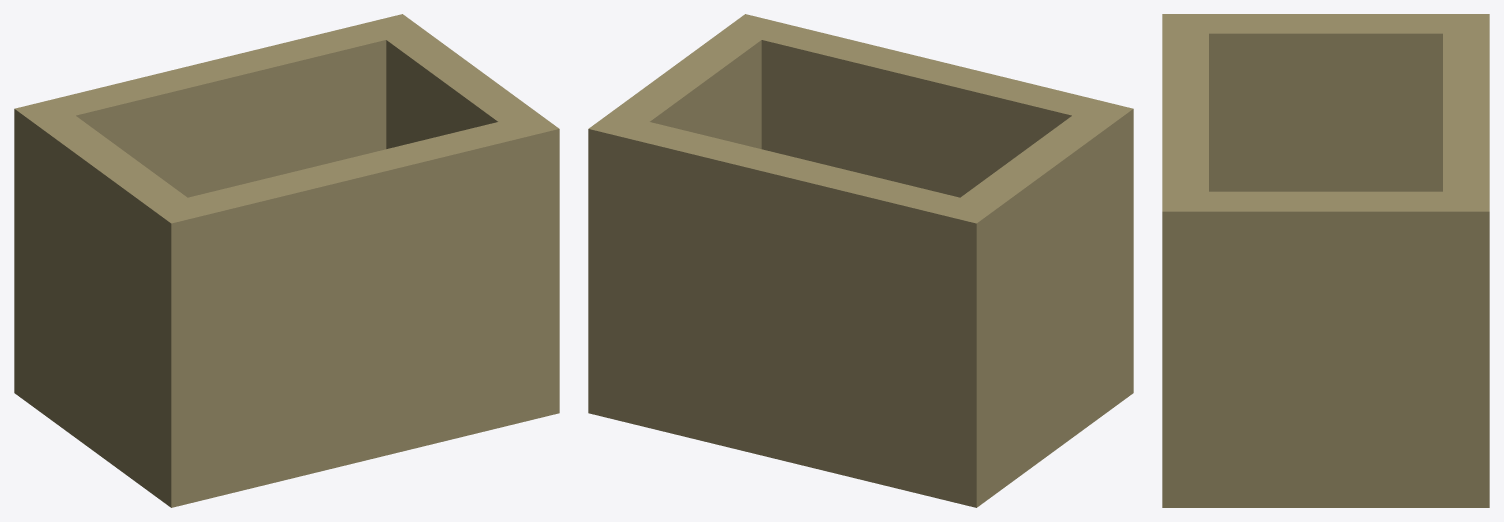
Rendered from BreakBOX.fbx.
3 renders of one model, left to right at view 1: azimuth 30°, elevation 25°; view 2: azimuth 150°, elevation 25°; view 3: azimuth 270°, elevation 25°, orthographic. The views are drawn at different scales.
Parts seen in each view (by area): view 1: Group2, Group11, Group8, Group3, Group6, Group7, Group4, Group5, Group10, Group9; view 2: Group3, Group8, Group10, Group9, Group2, Group11, Group7, Group6, Group4, Group5; view 3: Group3, Group11, Group6, Group5, Group7, Group2, Group8, Group4, Group10.
Boxes of the visible parts, bbox=[...] form: Group2: bbox=[149, 158, 412, 507]; Group11: bbox=[351, 112, 559, 455]; Group8: bbox=[126, 33, 347, 179]; Group3: bbox=[325, 14, 536, 158]; Group6: bbox=[14, 99, 135, 359]; Group7: bbox=[14, 212, 81, 427]; Group4: bbox=[62, 208, 148, 491]; Group5: bbox=[97, 160, 187, 424]; Group10: bbox=[53, 81, 203, 191]; Group9: bbox=[180, 134, 260, 197]; Group3: bbox=[588, 30, 761, 431]; Group8: bbox=[666, 131, 886, 438]; Group10: bbox=[810, 180, 959, 498]; Group9: bbox=[695, 233, 864, 476]; Group2: bbox=[878, 59, 1133, 409]; Group11: bbox=[722, 14, 931, 177]; Group7: bbox=[938, 255, 1043, 507]; Group6: bbox=[938, 153, 1077, 375]; Group4: bbox=[1025, 130, 1110, 472]; Group5: bbox=[1021, 115, 1110, 369]; Group3: bbox=[1209, 172, 1489, 507]; Group11: bbox=[1162, 116, 1341, 507]; Group6: bbox=[1280, 14, 1489, 191]; Group5: bbox=[1209, 14, 1316, 191]; Group7: bbox=[1350, 117, 1442, 191]; Group2: bbox=[1162, 14, 1208, 116]; Group8: bbox=[1443, 71, 1489, 171]; Group4: bbox=[1209, 34, 1363, 191]; Group10: bbox=[1443, 33, 1489, 70].
Bounding box in the file's own units: 100 × 70 × 70.
